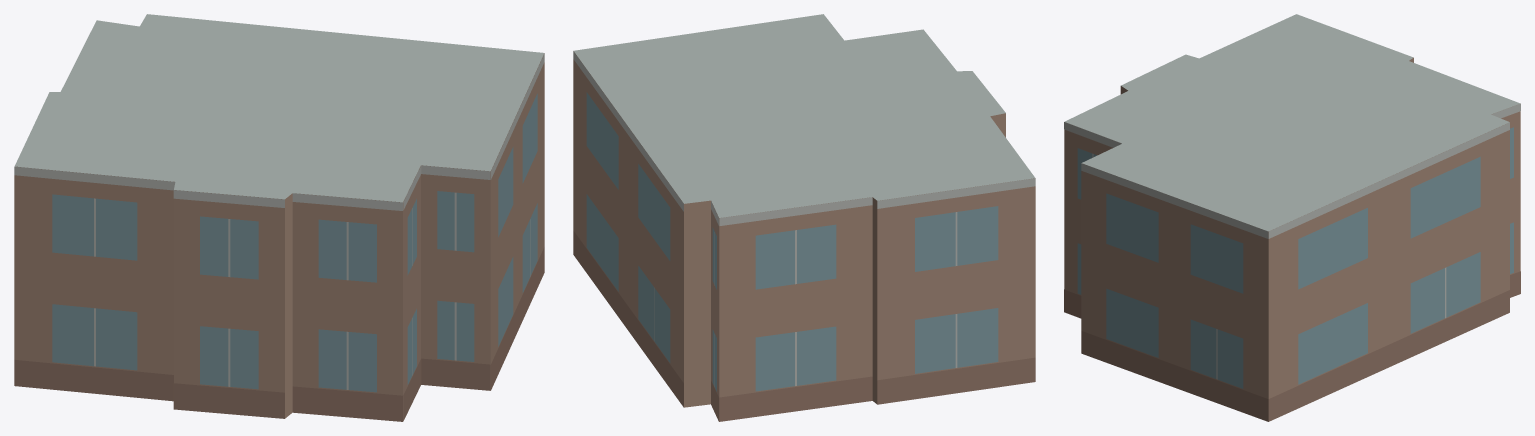
File: survey-upis-32550227.glb
3 renders of one model, left to right at view 1: azimuth 30°, elevation 25°; view 2: azimuth 150°, elevation 25°; view 3: azimuth 270°, elevation 25°, orthographic. The views are drawn at different scales.
Parts seen in each view (by area): view 1: survey-upis-32550227.tmp; view 2: survey-upis-32550227.tmp; view 3: survey-upis-32550227.tmp.
Boxes of the visible parts, bbox=[...] form: survey-upis-32550227.tmp: bbox=[14, 14, 544, 421]; survey-upis-32550227.tmp: bbox=[573, 14, 1035, 421]; survey-upis-32550227.tmp: bbox=[1064, 14, 1520, 421].
Size of the model in its own units: 14.95 by 6.1 by 13.27.
